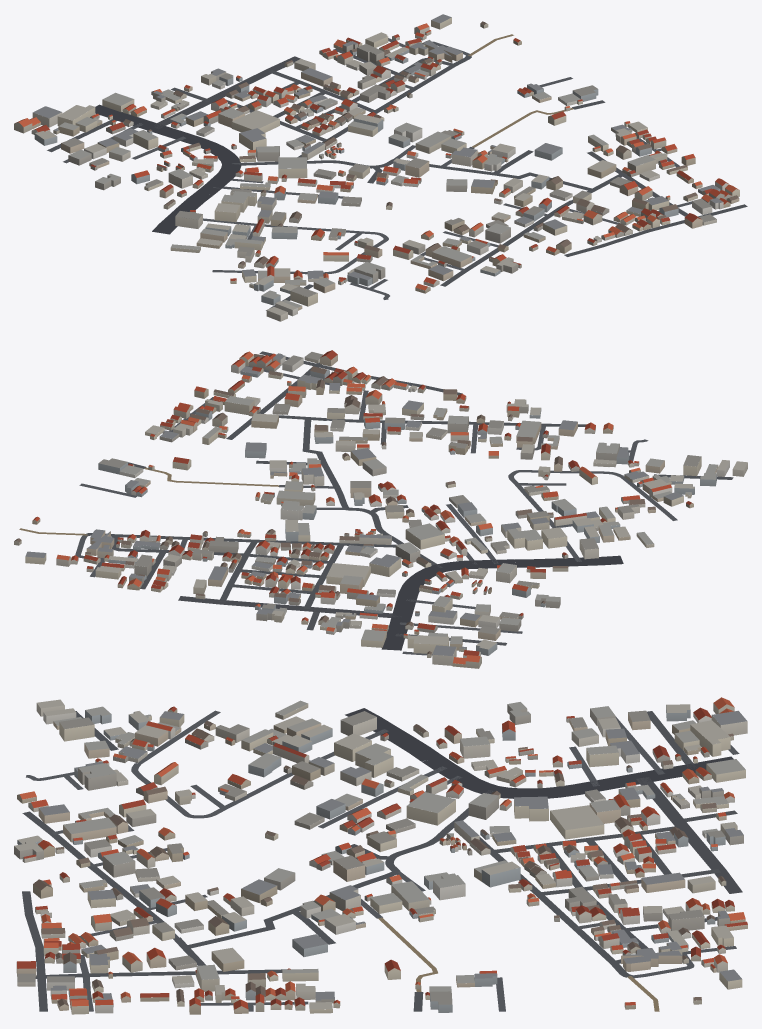
3 renders of one model, top to bottom at view 1: azimuth 30°, elevation 25°; view 2: azimuth 150°, elevation 25°; view 3: azimuth 270°, elevation 25°, orthographic. The views are drawn at different scales.
Parts seen in each view (by area): view 1: buildings_walls, buildings_roofs, roads; view 2: buildings_roofs, buildings_walls, roads; view 3: buildings_roofs, buildings_walls, roads.
Boxes of the visible parts, box(x1,y1,x2,y2) form: buildings_walls: box(14, 17, 739, 321); buildings_roofs: box(16, 14, 738, 315); roads: box(47, 34, 747, 310); buildings_roofs: box(14, 350, 747, 664); buildings_walls: box(14, 354, 747, 668); roads: box(19, 351, 733, 655); buildings_roofs: box(14, 697, 747, 1009); buildings_walls: box(14, 703, 747, 1014); roads: box(22, 708, 742, 1011).
Bounding box in the file's own units: 516 × 9.9 × 517.
